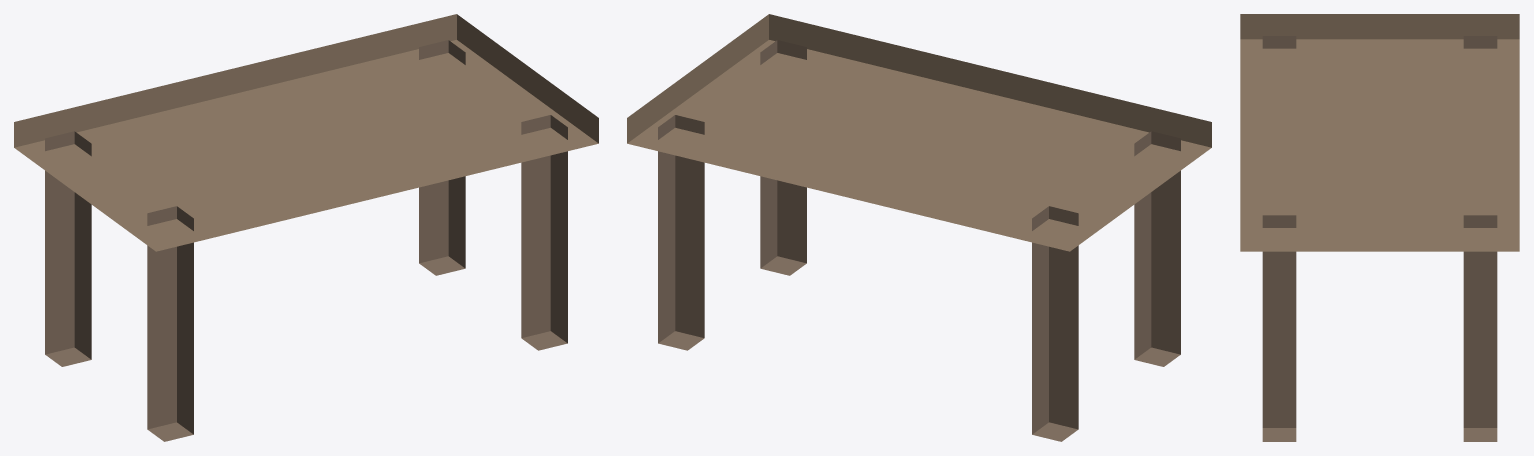
Rendered from coffee_table.gltf.
3 renders of one model, left to right at view 1: azimuth 30°, elevation 25°; view 2: azimuth 150°, elevation 25°; view 3: azimuth 270°, elevation 25°, orthographic.
Visible parts, largest first — view 1: coffee_table; view 2: coffee_table; view 3: coffee_table.
Boxes of the visible parts, box(x1,y1,x2,y2) form: coffee_table: box(14, 14, 598, 441); coffee_table: box(627, 14, 1211, 441); coffee_table: box(1240, 14, 1519, 441).
Size of the model in its own units: 0.9 by 0.445 by 0.5.
